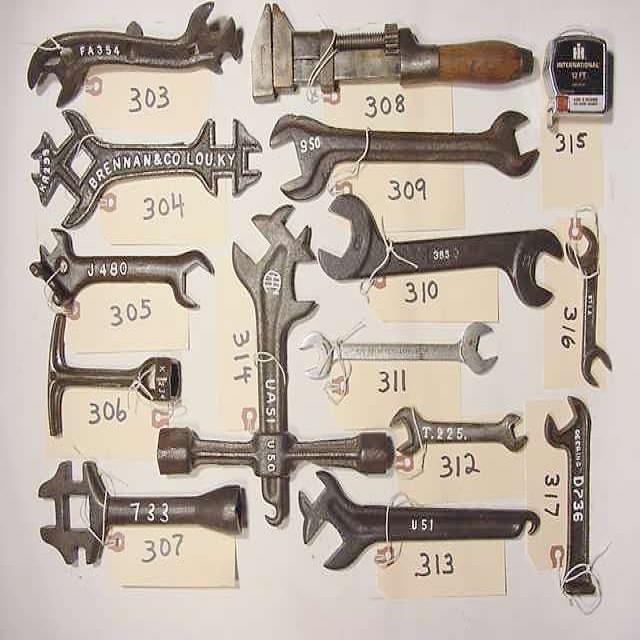wrench: (316, 190, 566, 318), (238, 0, 543, 104), (18, 0, 246, 111), (31, 230, 220, 312), (298, 317, 504, 385), (544, 385, 606, 605), (388, 402, 533, 467), (566, 226, 614, 384)
